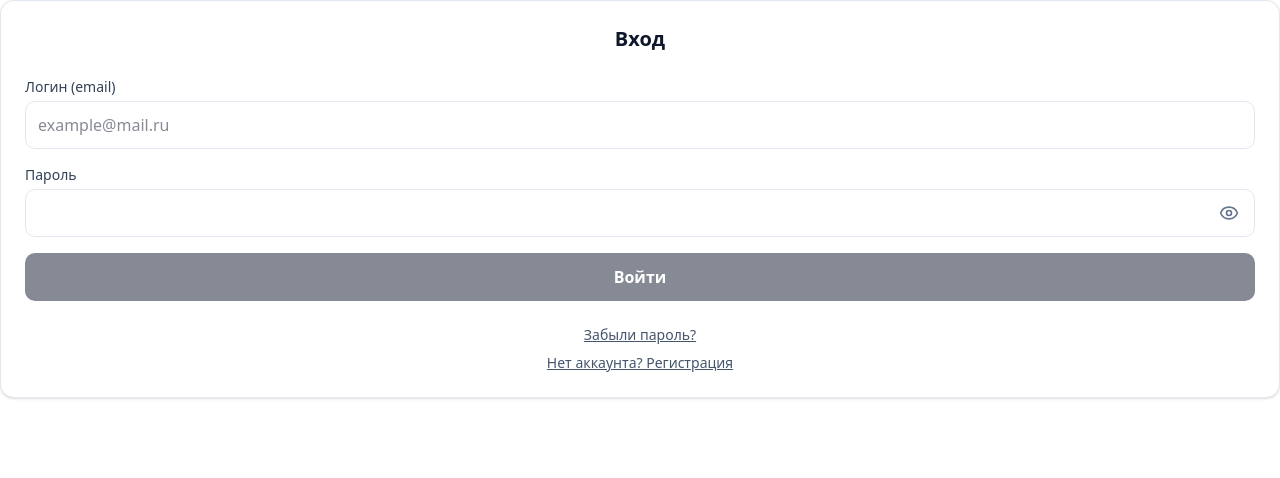
Test: LoginPage › Given rejected password When submit fails Then shows user-visible error
In the field labelled "Логин (email)": (640,125) x1=25 y1=101 x2=1255 y2=149, type "student@example.com"
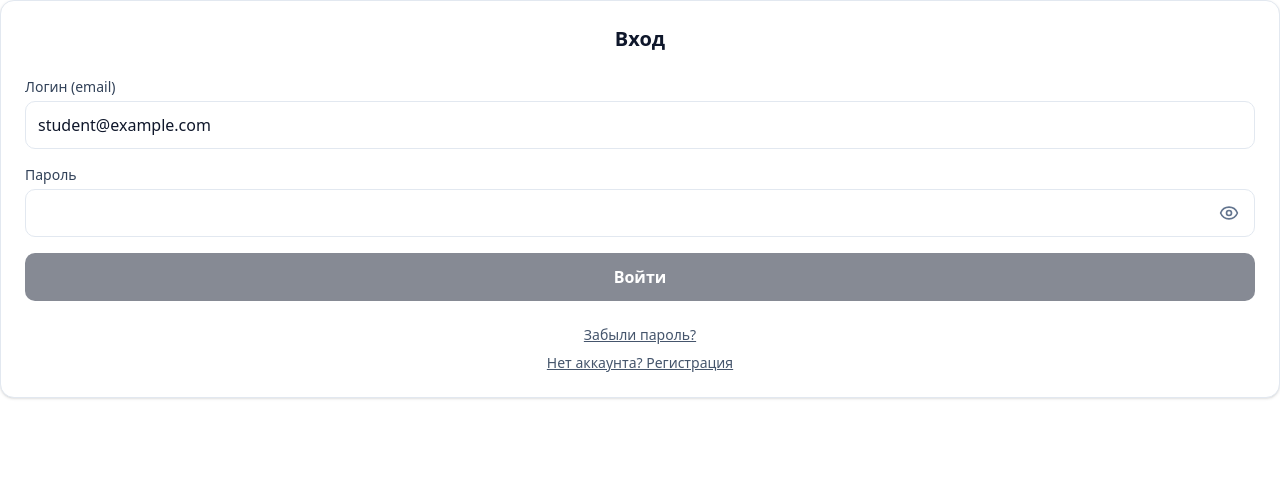
In the password field labelled "Пароль": (640,213) x1=25 y1=189 x2=1255 y2=237, type "bad-pass"
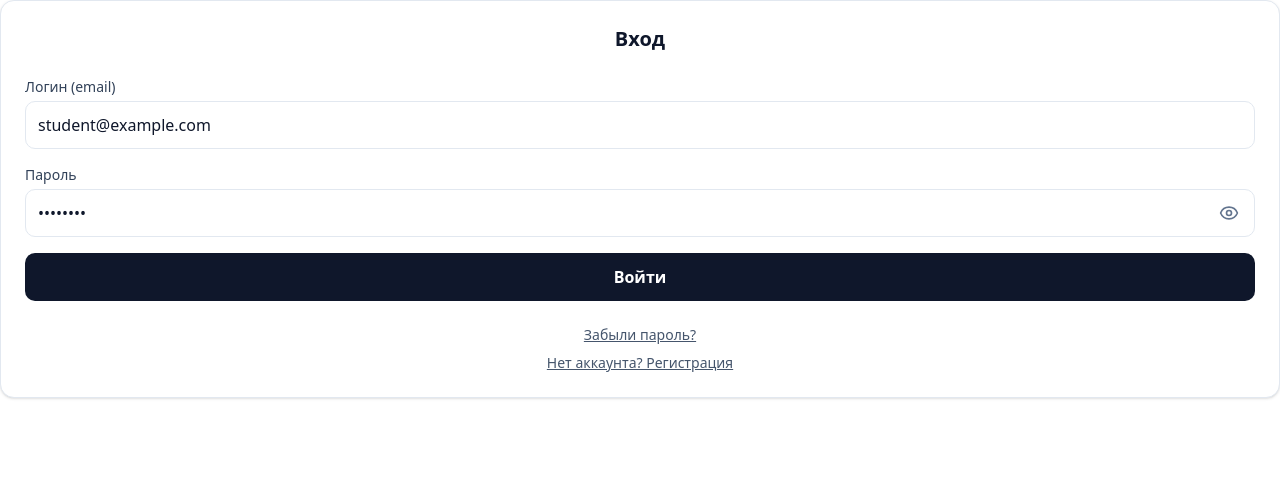
Click the button "Войти": (640,277) x1=25 y1=253 x2=1255 y2=301
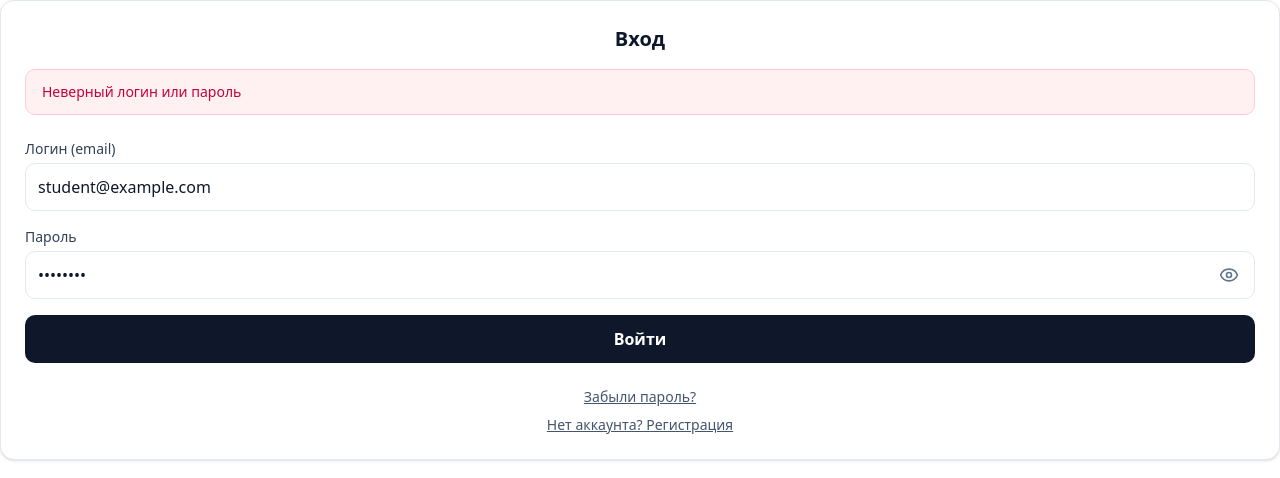
Check: the message reads "Неверный логин или пароль", box x1=42 y1=82 x2=241 y2=101
